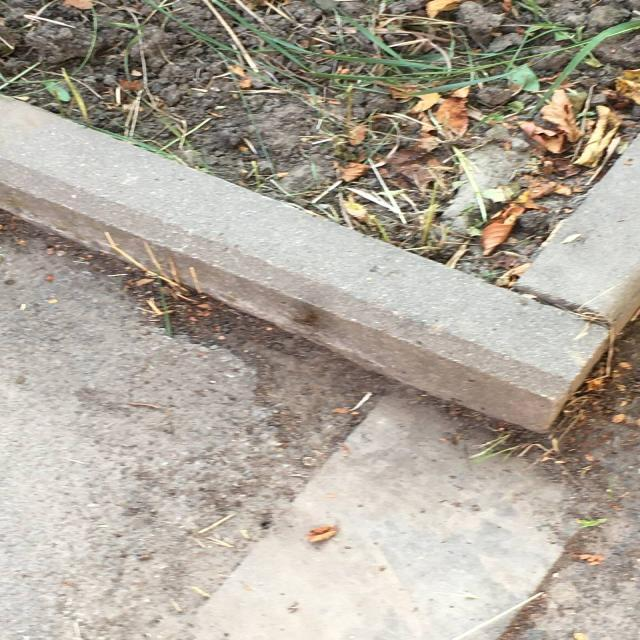bump: (264, 219, 626, 460)
